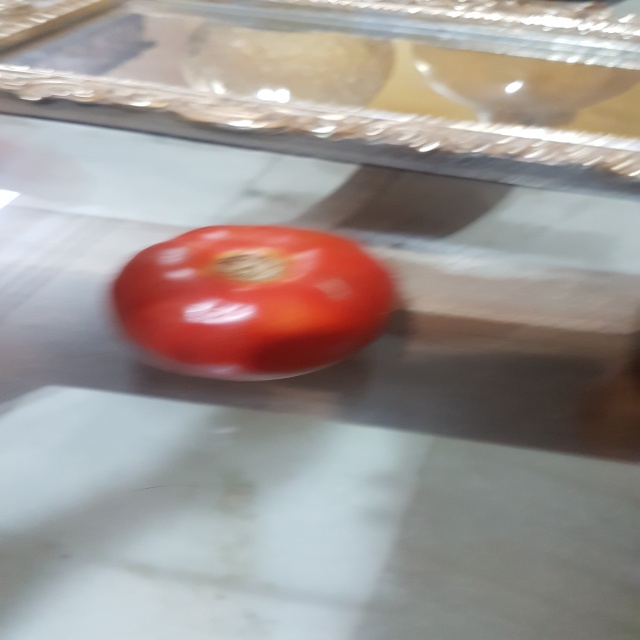tomato: (98, 215, 411, 393)
